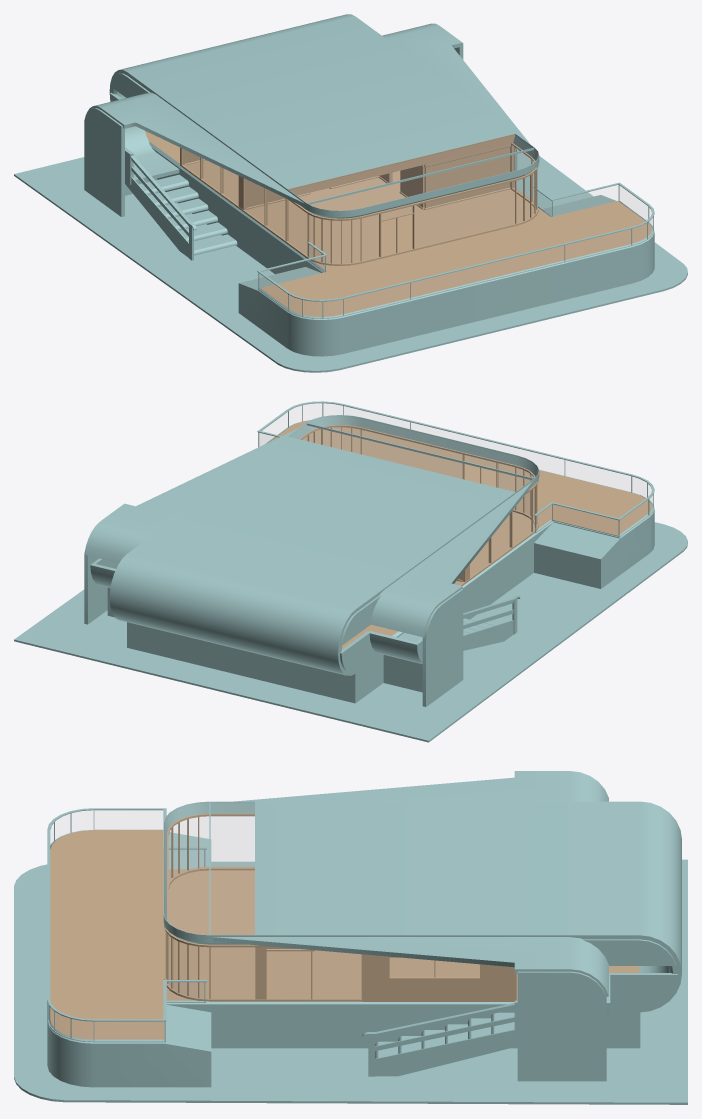
File: asset.glb
3 renders of one model, top to bottom at view 1: azimuth 30°, elevation 25°; view 2: azimuth 150°, elevation 25°; view 3: azimuth 270°, elevation 25°, orthographic. The views are drawn at different scales.
Parts seen in each view (by area): view 1: Cube; view 2: Cube; view 3: Cube.
Boxes of the visible parts, x1,y1,x2,y2 form: Cube: (14, 14, 687, 372); Cube: (14, 401, 687, 742); Cube: (14, 771, 687, 1104).
Size of the model in its own units: 24.77 by 5.46 by 29.03.
